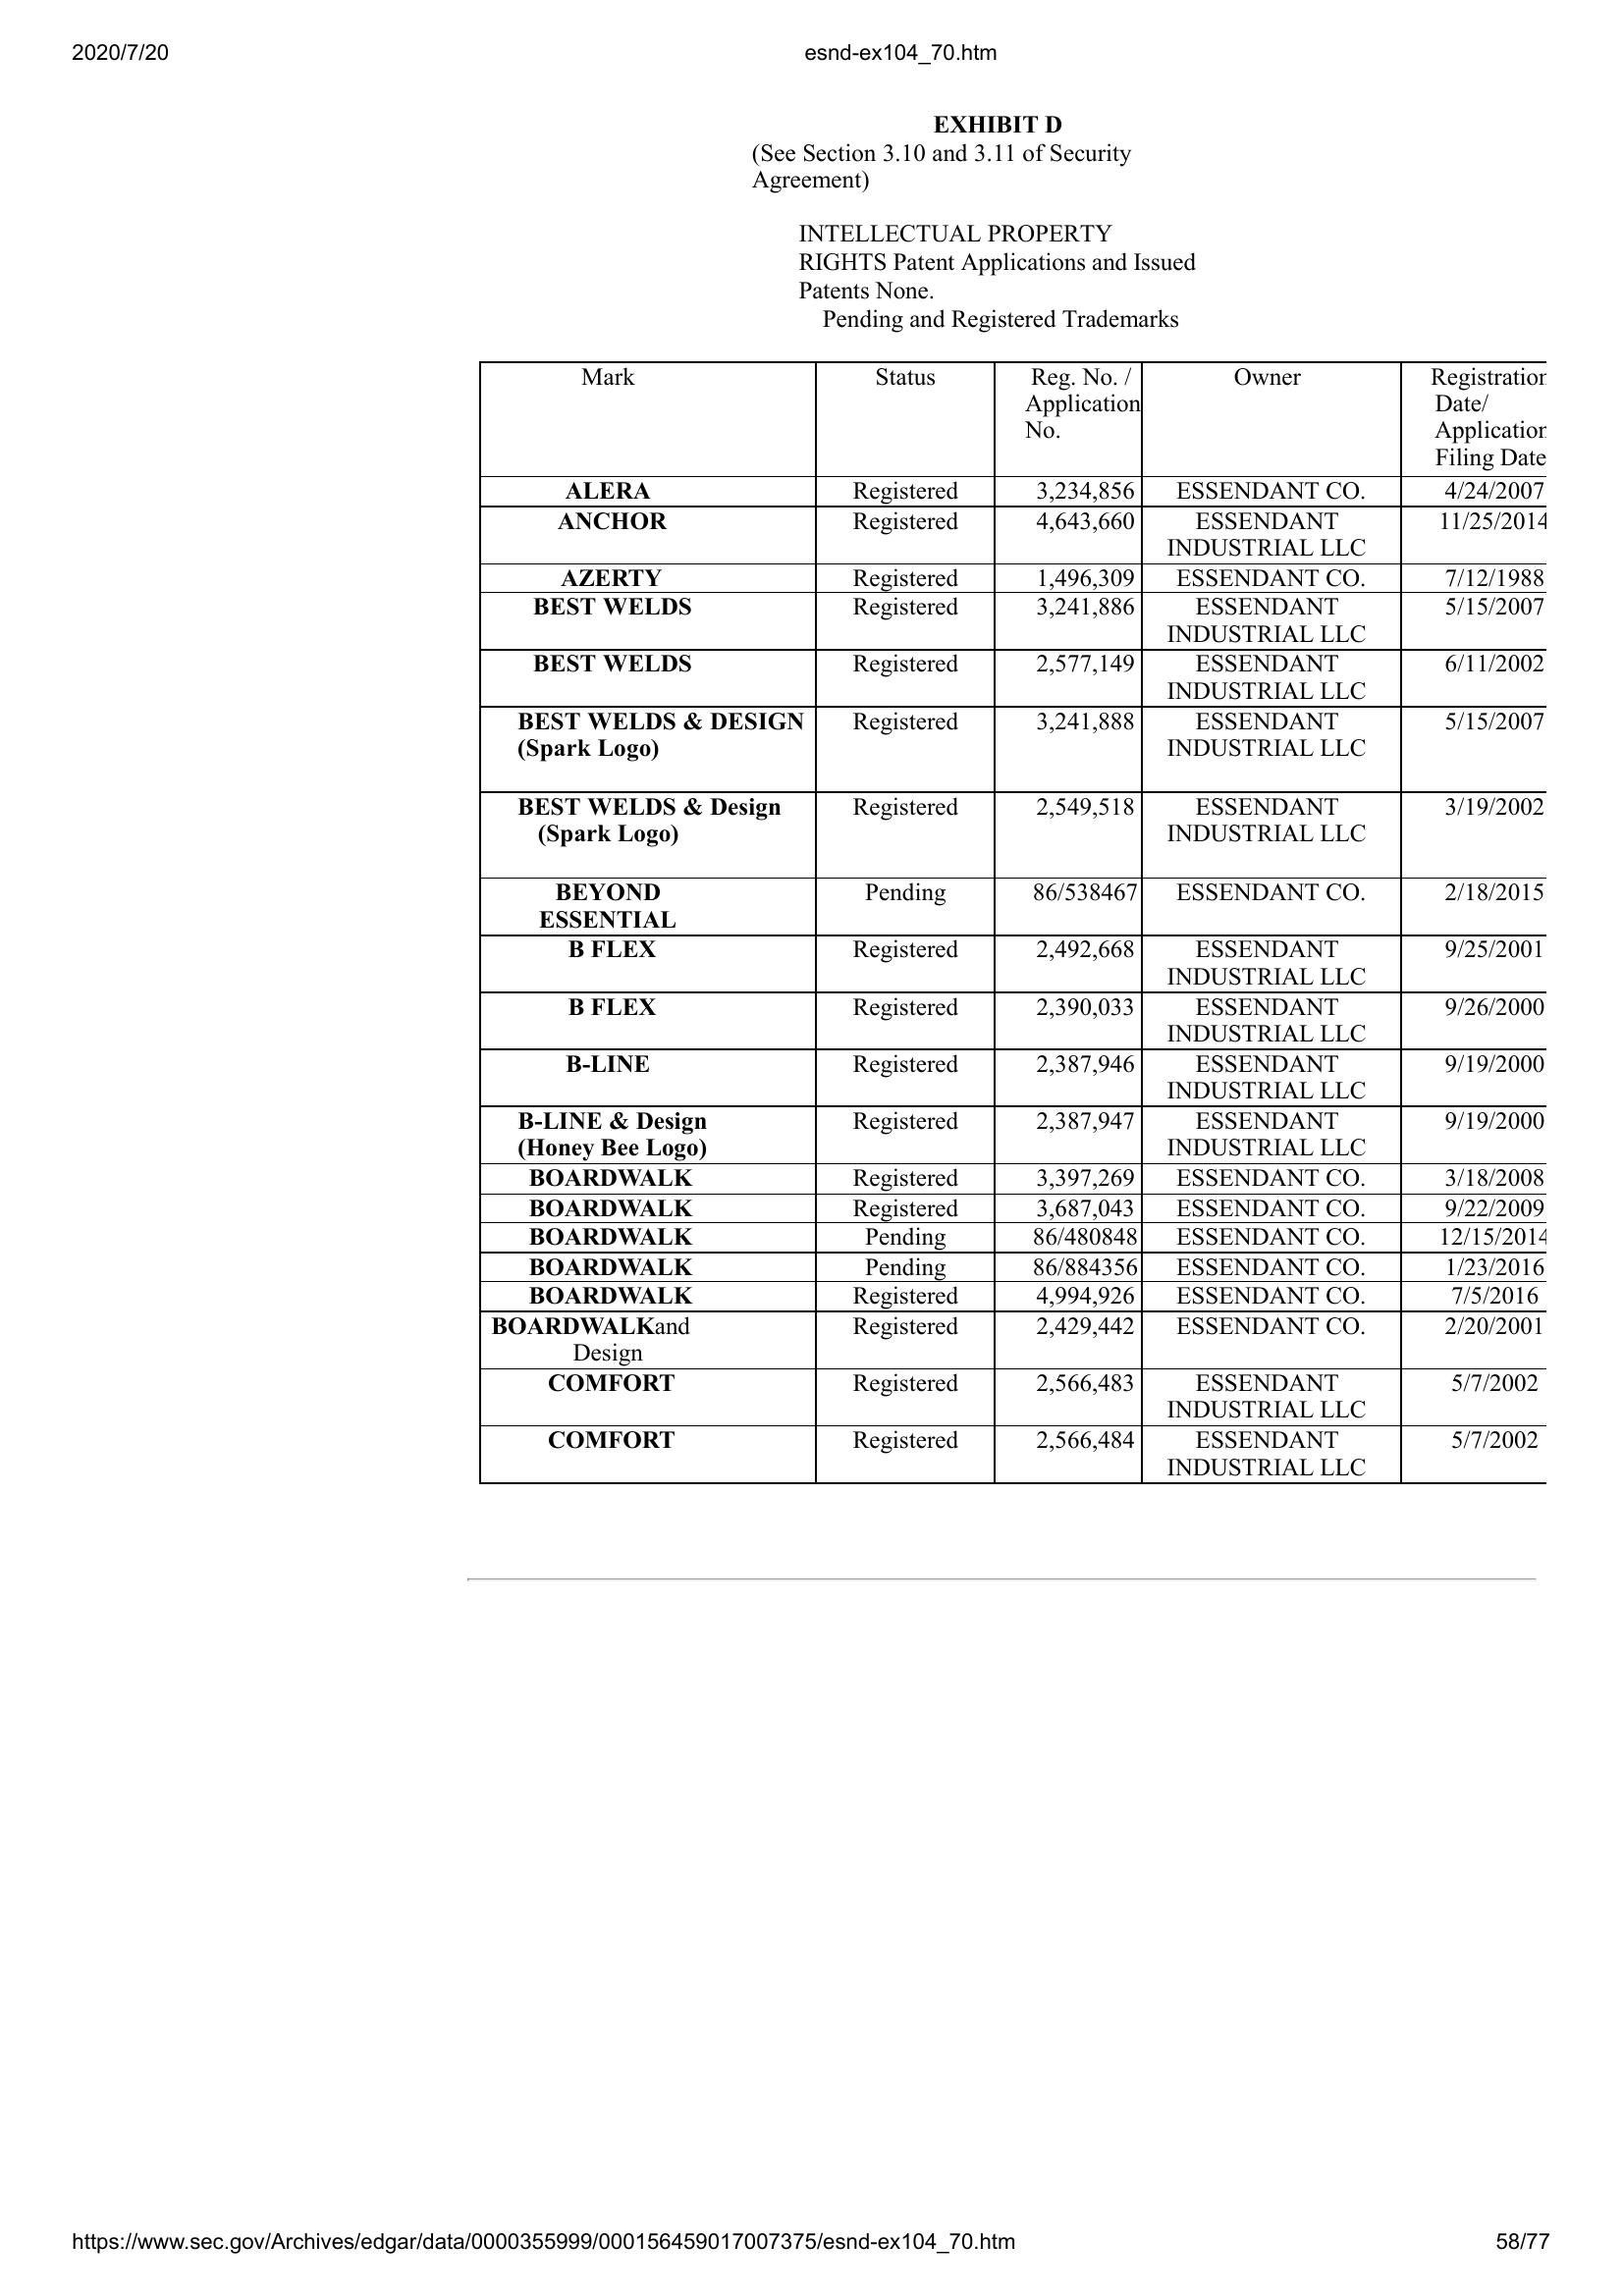table: (469, 356, 1562, 1499)
